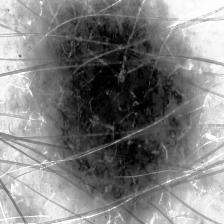Benign Marking or Mole: (34, 0, 197, 205)
